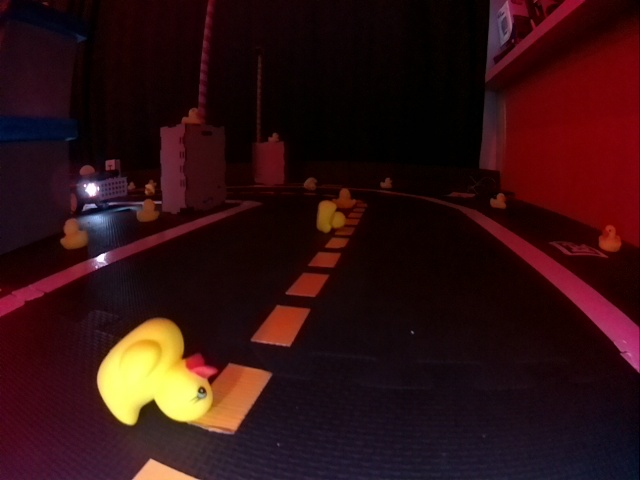Duckie: (97, 318, 211, 425), (317, 201, 345, 232), (60, 220, 85, 248), (600, 225, 621, 251), (136, 199, 159, 220), (332, 189, 356, 208), (491, 193, 506, 209), (304, 177, 317, 190), (381, 179, 393, 189)
Duckiebot: (71, 171, 127, 215)
QR code: (553, 241, 602, 257)
